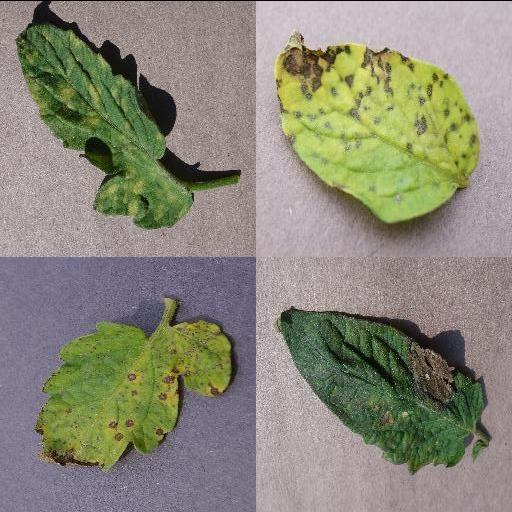Late Blight: (275, 306, 487, 474)
Leaf Mold: (15, 23, 193, 228)
Septoria: (275, 30, 481, 222), (34, 317, 234, 471)
